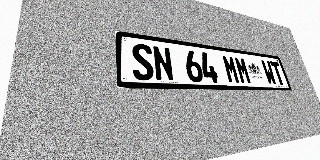4: (199, 52, 219, 83)
6: (183, 50, 204, 82)
M: (221, 55, 241, 84), (234, 56, 252, 84)
N: (152, 45, 175, 81)
S: (131, 43, 155, 81)
T: (270, 61, 286, 85)
W: (260, 60, 277, 85)
